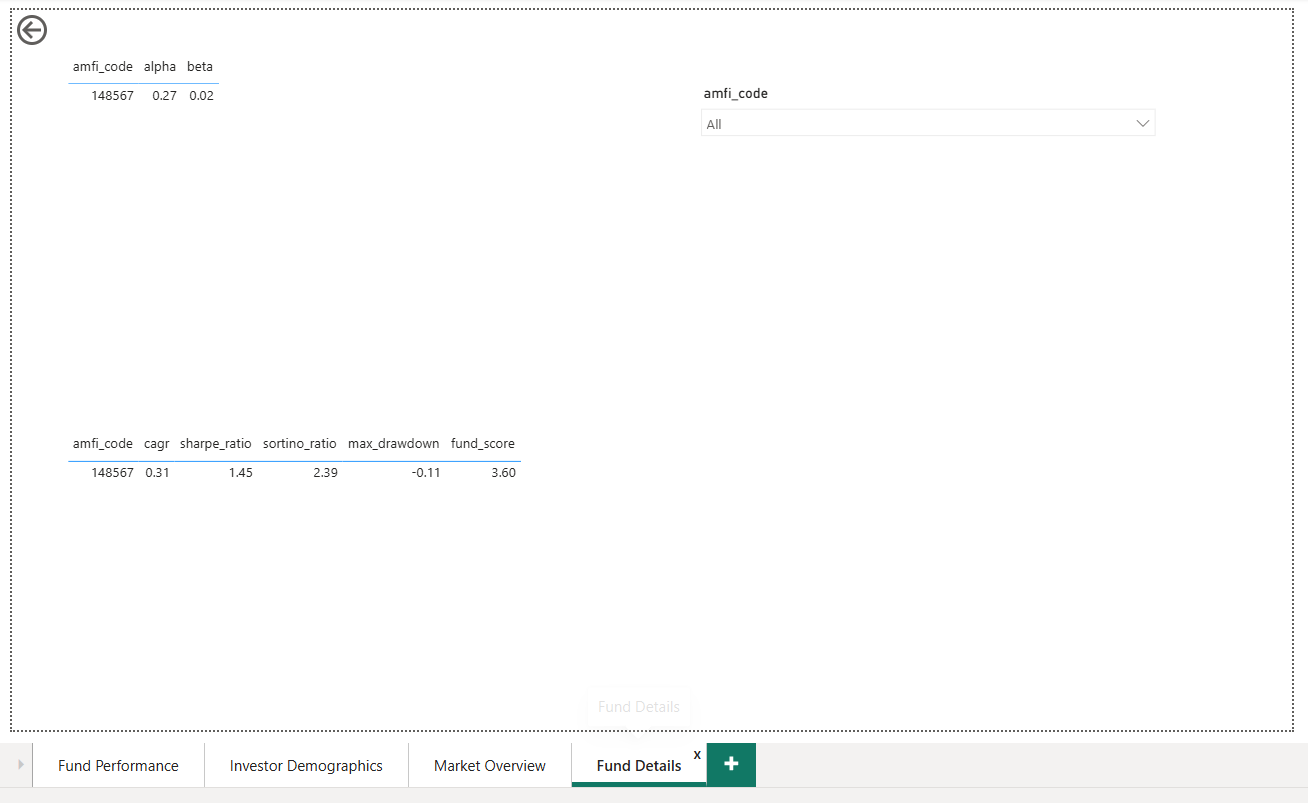

This screenshot's page, from the dashboard's own definition file:
{"tool":"powerbi","page":{"name":"Fund Details","canvas":[1280,720],"ordinal":3},"visuals":[{"type":"tableEx","fields":{"Values":["fund_scorecard.amfi_code","fund_scorecard.cagr","fund_scorecard.sharpe_ratio","fund_scorecard.sortino_ratio","fund_scorecard.max_drawdown","fund_scorecard.fund_score"]},"box":[49.4,417.2,474.8,289.5],"z":0},{"type":"actionButton","box":[0,0,100,40],"z":1},{"type":"tableEx","fields":{"Values":["alpha_beta.amfi_code","alpha_beta.alpha","alpha_beta.beta"]},"box":[49.4,39.8,474.8,290.9],"z":2},{"type":"slicer","fields":{"Values":["clean_transactions.amfi_code"]},"box":[679.2,70,474.8,289.5],"z":3}]}

Visuals, with their boxes on the page's 1280x720 design canvas (x1, y1, x2, y2). These are canvas units, not pixel positions in the 1308x803 screenshot, which may show the page scaled, cropped or inside an application window:
tableEx - fund_scorecard.amfi_code x fund_scorecard.cagr: l=49, t=417, r=524, b=707
actionButton: l=0, t=0, r=100, b=40
tableEx - alpha_beta.amfi_code x alpha_beta.alpha: l=49, t=40, r=524, b=331
slicer - clean_transactions.amfi_code: l=679, t=70, r=1154, b=360
